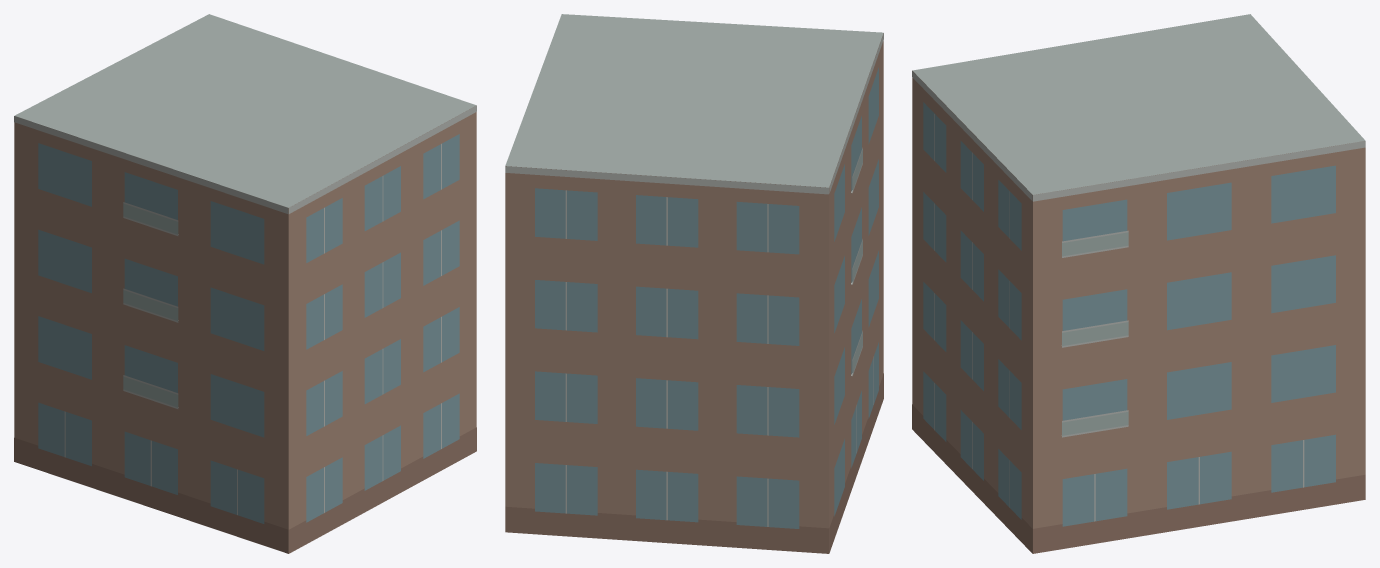
File: survey-upis-33021966.glb
3 views of the same model, side by side, from view 1: azimuth 30°, elevation 25°; view 2: azimuth 150°, elevation 25°; view 3: azimuth 270°, elevation 25° (orthographic). The views are drawn at different scales.
Visible parts, largest first — view 1: survey-upis-33021966.tmp; view 2: survey-upis-33021966.tmp; view 3: survey-upis-33021966.tmp.
Part boxes in pixels (x1,y1,x2,y2): survey-upis-33021966.tmp: [14, 14, 476, 553]; survey-upis-33021966.tmp: [505, 14, 883, 553]; survey-upis-33021966.tmp: [912, 14, 1365, 553].
Size of the model in its own units: 14.18 by 13.1 by 15.01.
